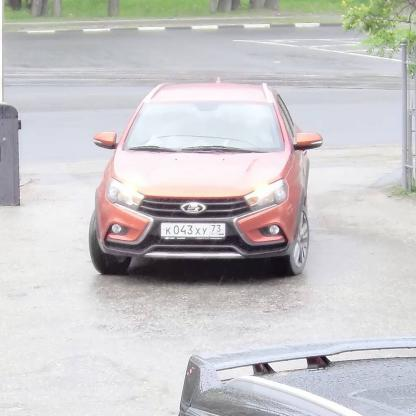plate: (161, 223, 226, 237)
